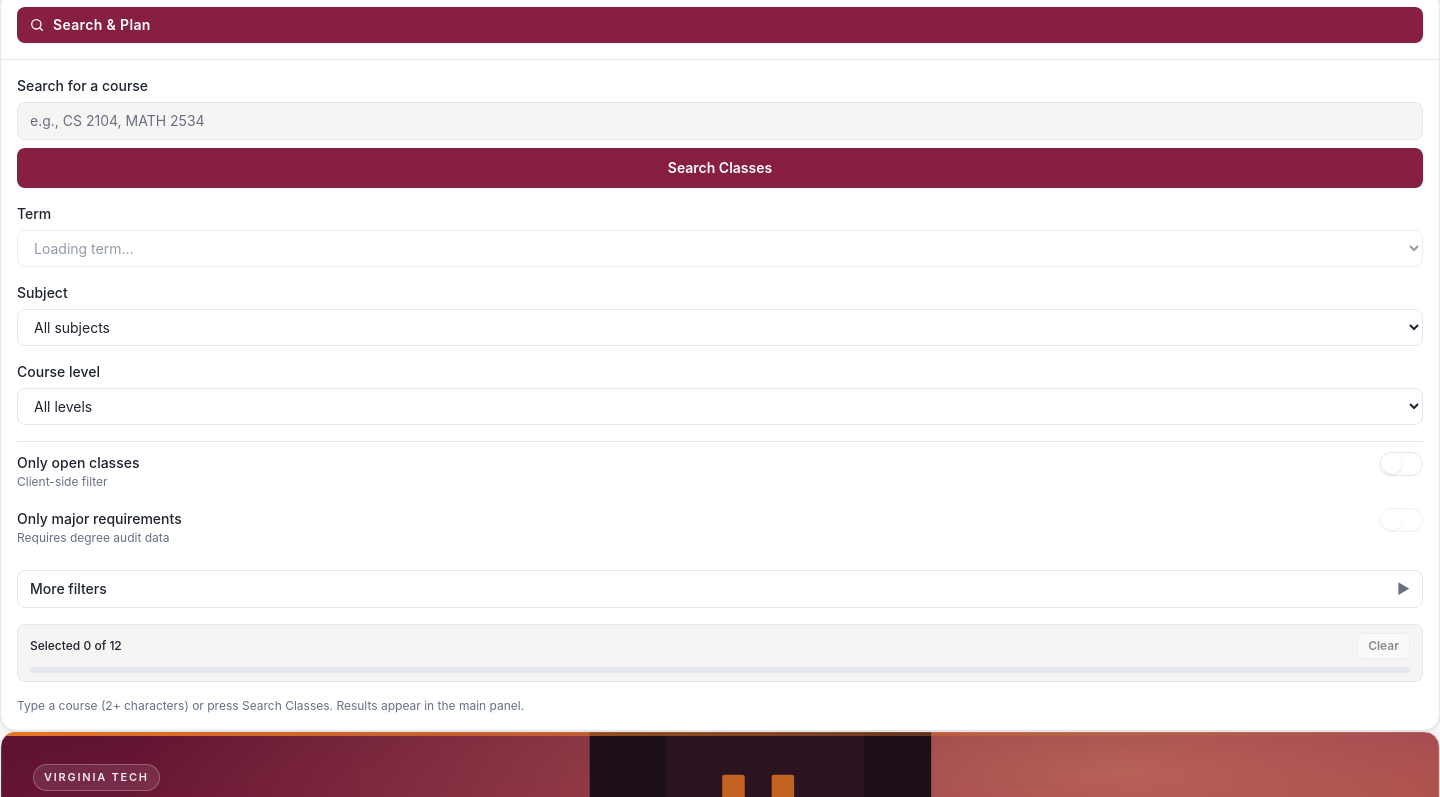
CenterPanel › replaces the hero with results in the center panel when the user searches
The width and height of the screenshot is (1440, 797).
Click the button "Search Classes": (720, 168) 17,148 -> 1423,188
(page scrolled)
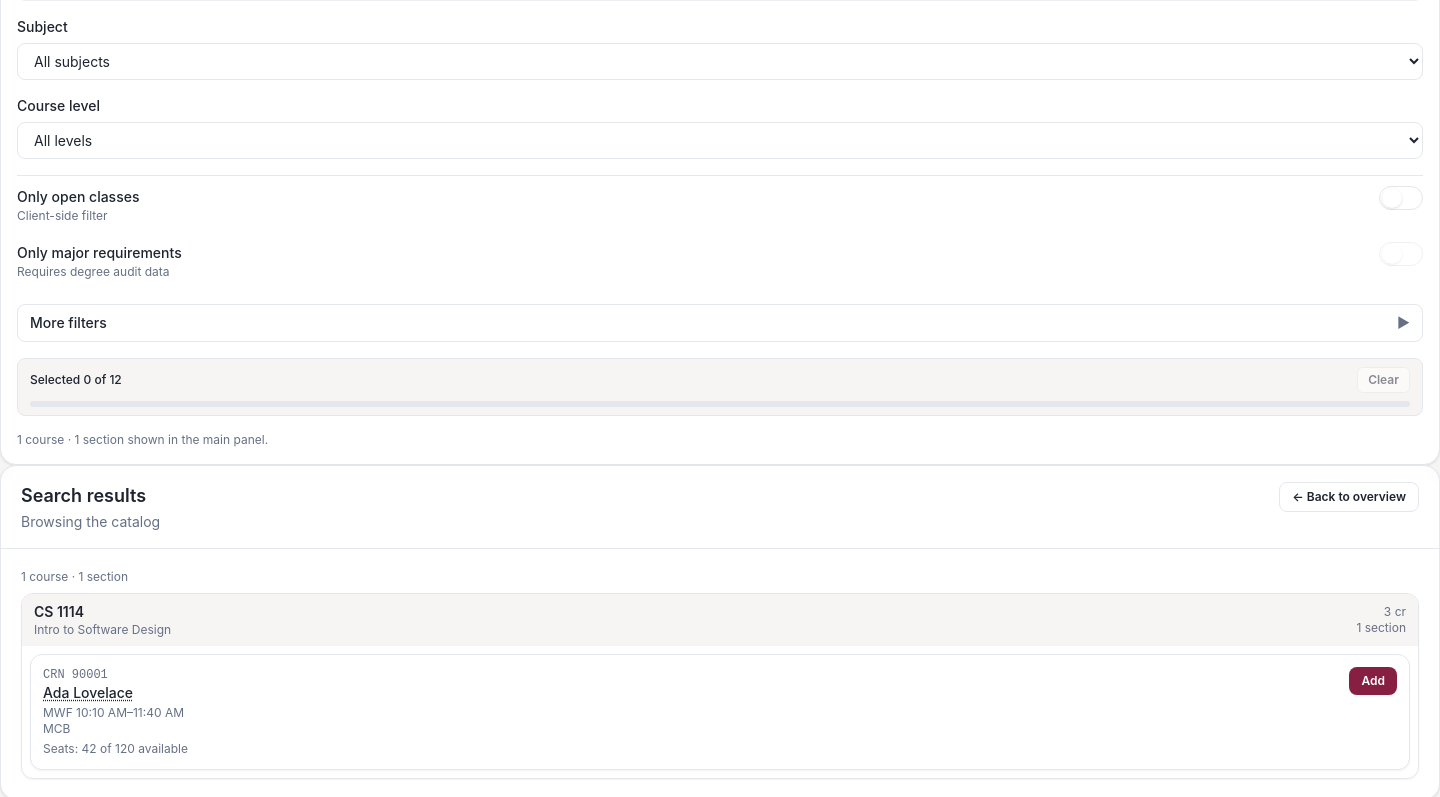
Now the text "CS 1114" is shown, box 34,603 -> 84,620
Now the element named "course search results" shows "CS 1114", box 22,594 -> 1418,646
